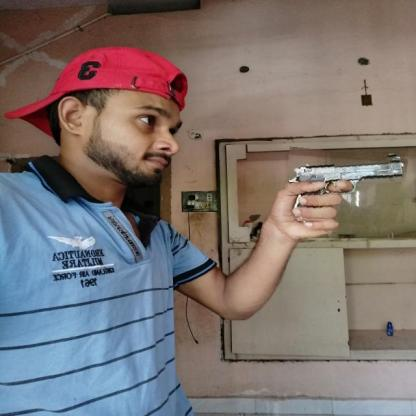handgun: (284, 149, 406, 226)
